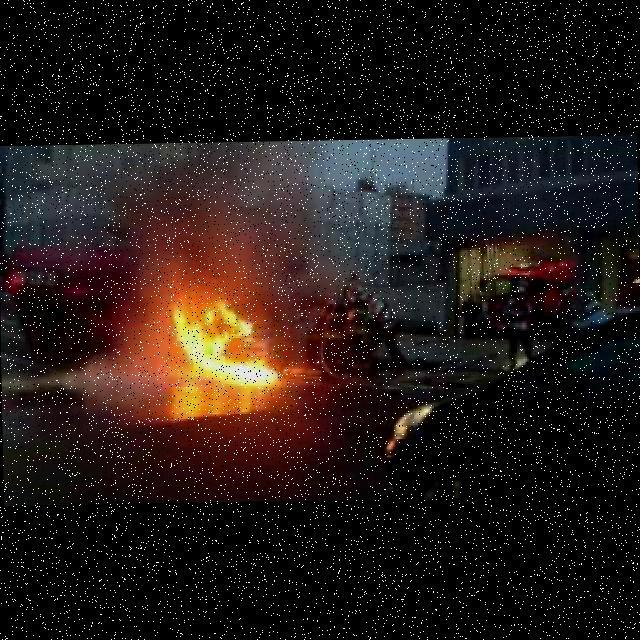Fire: (164, 305, 283, 385)
Smoke: (106, 145, 310, 318)
